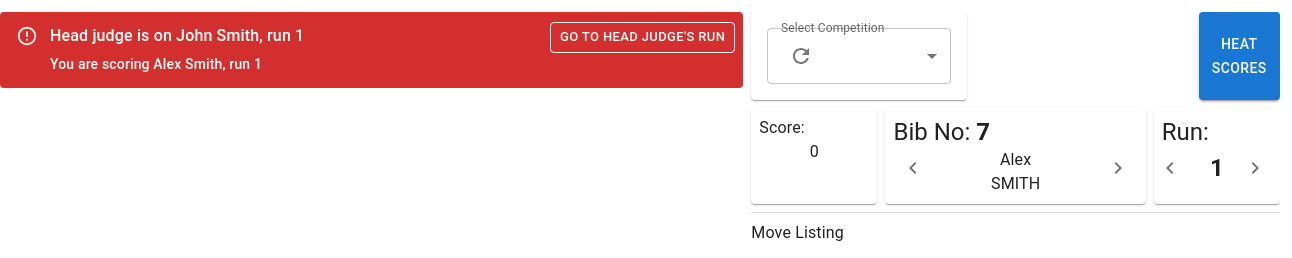
Scenario: Scribe head judge mismatch banner › warns when the head judge is on another athlete, and the button moves the scribe to them
Expected: the heading with test id "display-bib-number" shows "7", top-left (976, 118), bottom-right (990, 146)
Expected: the message with test id "head-judge-mismatch-banner" shows "Head judge is on John Smith, run 1", top-left (50, 26), bottom-right (304, 45)
What coordinates should you click on to do the following:
click the button "Go to head judge's run"
I would click on:
 (643, 37)
Its box is top-left (550, 22), bottom-right (735, 53).
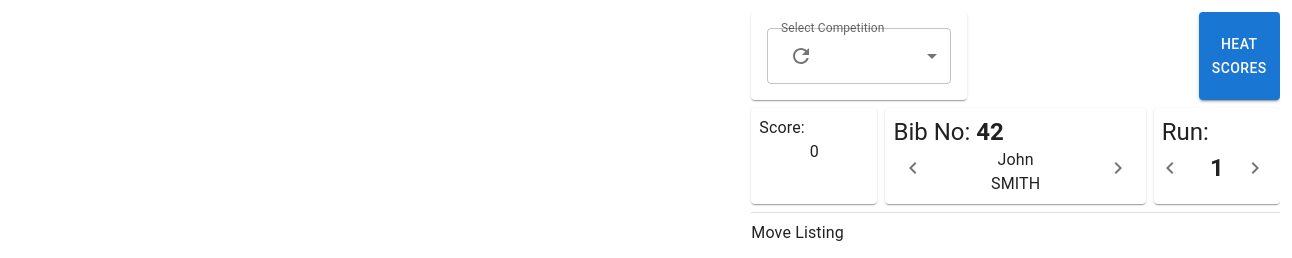
Expected: the heading with test id "display-bib-number" shows "42", top-left (976, 118), bottom-right (1004, 146)
Expected: the message with test id "head-judge-mismatch-banner" is gone
